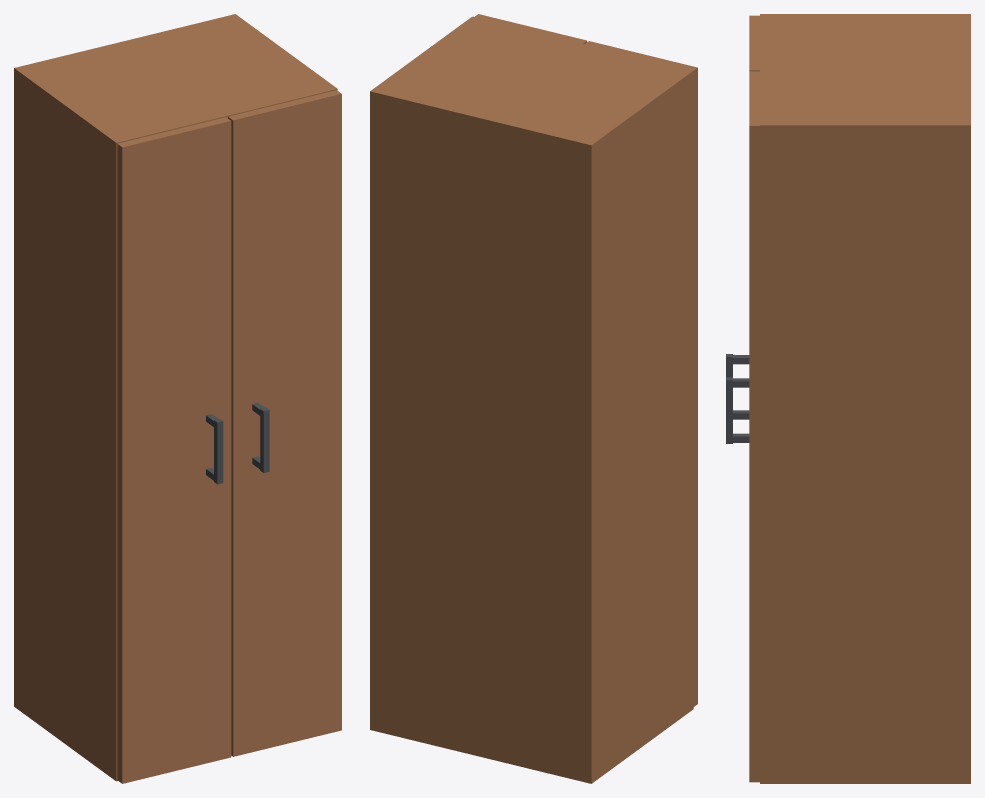
3 views of the same model, side by side, from view 1: azimuth 30°, elevation 25°; view 2: azimuth 150°, elevation 25°; view 3: azimuth 270°, elevation 25° (orthographic). The views are drawn at different scales.
Parts seen in each view (by area): view 1: panel_left, panel_right, side_left, top, side_right, handle_left, handle_right; view 2: back, side_left, top, side_right, panel_left, bottom; view 3: side_right, top, panel_right, side_left, panel_left, handle_right.
Part boxes in pixels (x1=…): panel_left: x1=117, y1=117, x2=231, y2=783; panel_right: x1=228, y1=90, x2=341, y2=756; side_left: x1=14, y1=66, x2=125, y2=781; top: x1=23, y1=16, x2=328, y2=141; side_right: x1=227, y1=14, x2=337, y2=91; handle_left: x1=214, y1=419, x2=223, y2=484; handle_right: x1=260, y1=407, x2=269, y2=472; back: x1=379, y1=103, x2=582, y2=772; side_left: x1=582, y1=68, x2=693, y2=783; top: x1=379, y1=18, x2=684, y2=152; side_right: x1=370, y1=16, x2=480, y2=731; panel_left: x1=585, y1=41, x2=697, y2=706; bottom: x1=379, y1=723, x2=582, y2=781; side_right: x1=760, y1=121, x2=970, y2=783; top: x1=760, y1=18, x2=970, y2=120; panel_right: x1=749, y1=71, x2=759, y2=782; side_left: x1=760, y1=14, x2=970, y2=18; panel_left: x1=749, y1=15, x2=759, y2=71; handle_right: x1=726, y1=377, x2=732, y2=443.
Size of the model in its own units: 0.45 by 1.24 by 0.418.
